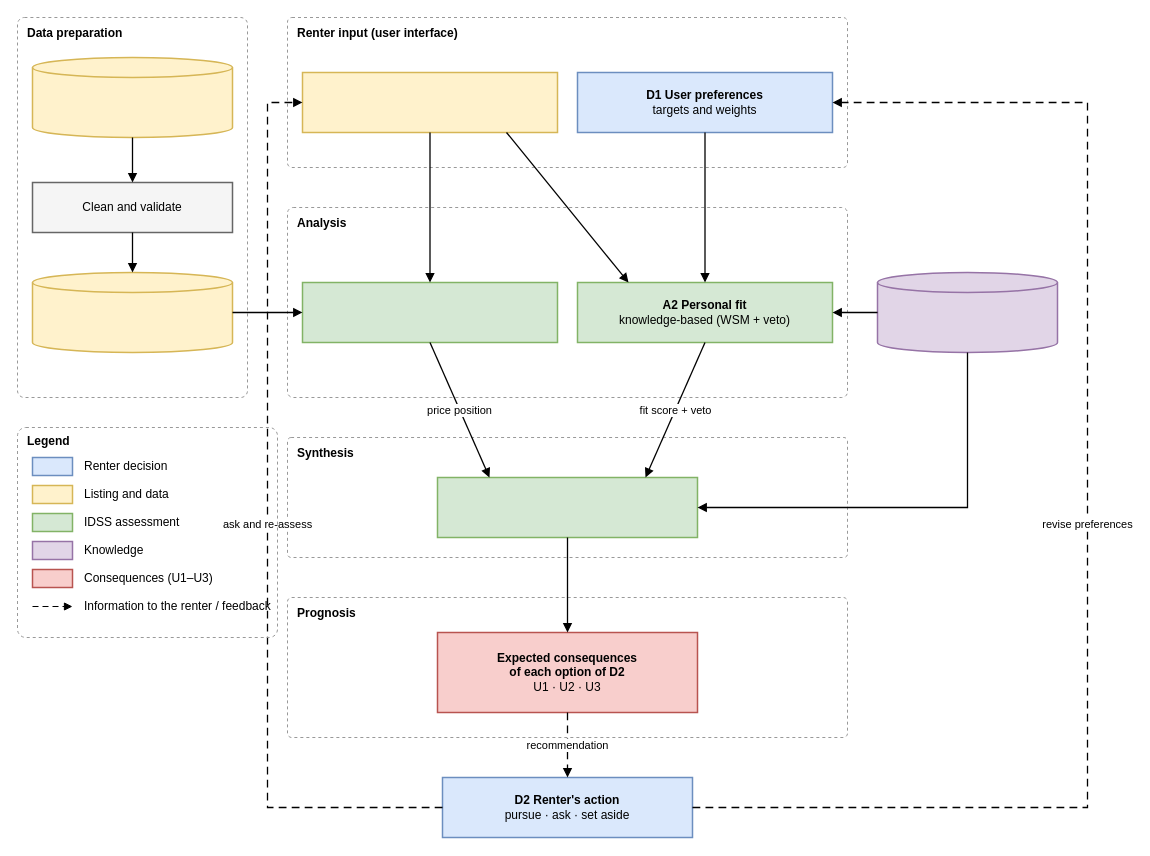
This 1150x856 diagram has some shape labels left out. The centre of each missing label's shape, as x and y in pixels:
"A1 Price position data-driven (KNN comparables)" belongs at pixel 429 312.
"A3 Recommendation Shortlist / Review / Skip" belongs at pixel 567 507.
"Apartment listing" belongs at pixel 429 102.
"Knowledge base criteria and rules" belongs at pixel 967 312.
"Prepared listings comparable evidence" belongs at pixel 132 312.
"Raw listings UCI, 2018–2019" belongs at pixel 132 97.
